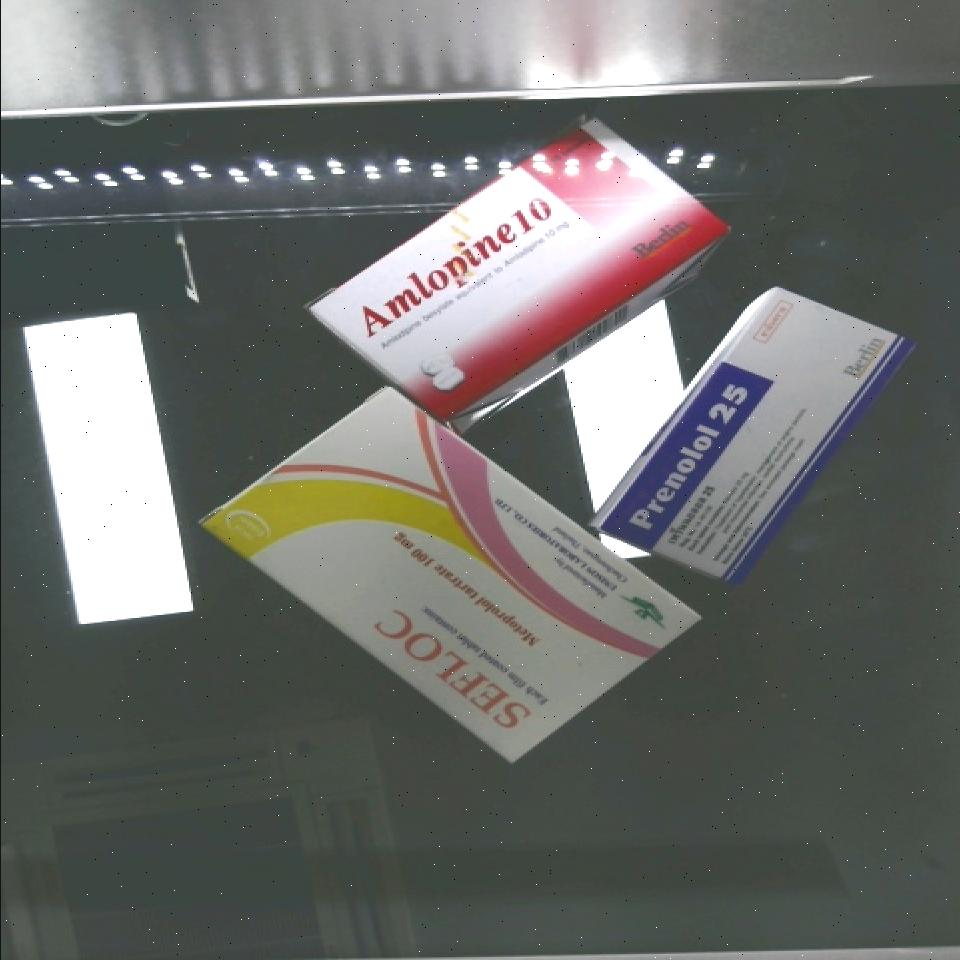medicine_box: (199, 345, 700, 797), (310, 87, 729, 451), (592, 254, 913, 619)
medicine_label_obb: (328, 165, 580, 366), (351, 581, 562, 762), (609, 354, 770, 554)
